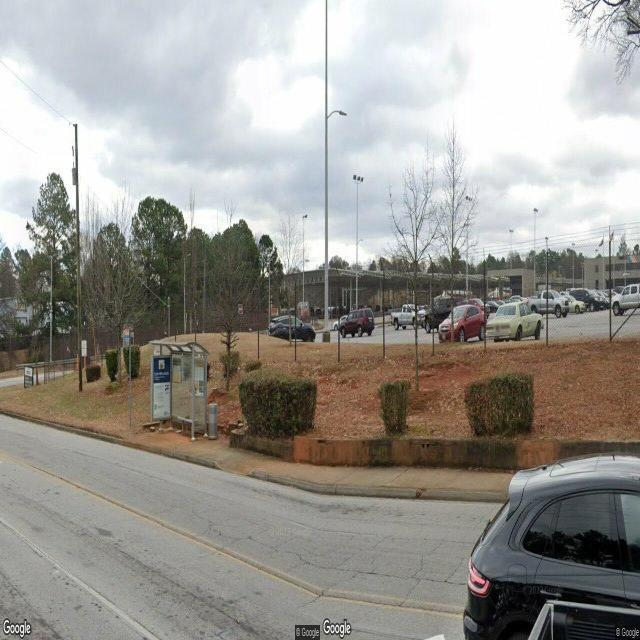seating: (178, 416, 198, 436)
shelter: (145, 338, 209, 443)
trash_can: (209, 403, 218, 439)
